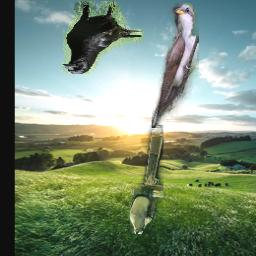Crow: (62, 2, 143, 75)
Cuckoo: (152, 4, 199, 129), (130, 126, 163, 235)
